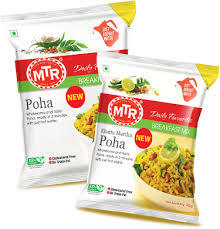VEG: (9, 29, 19, 38), (101, 64, 110, 72)
